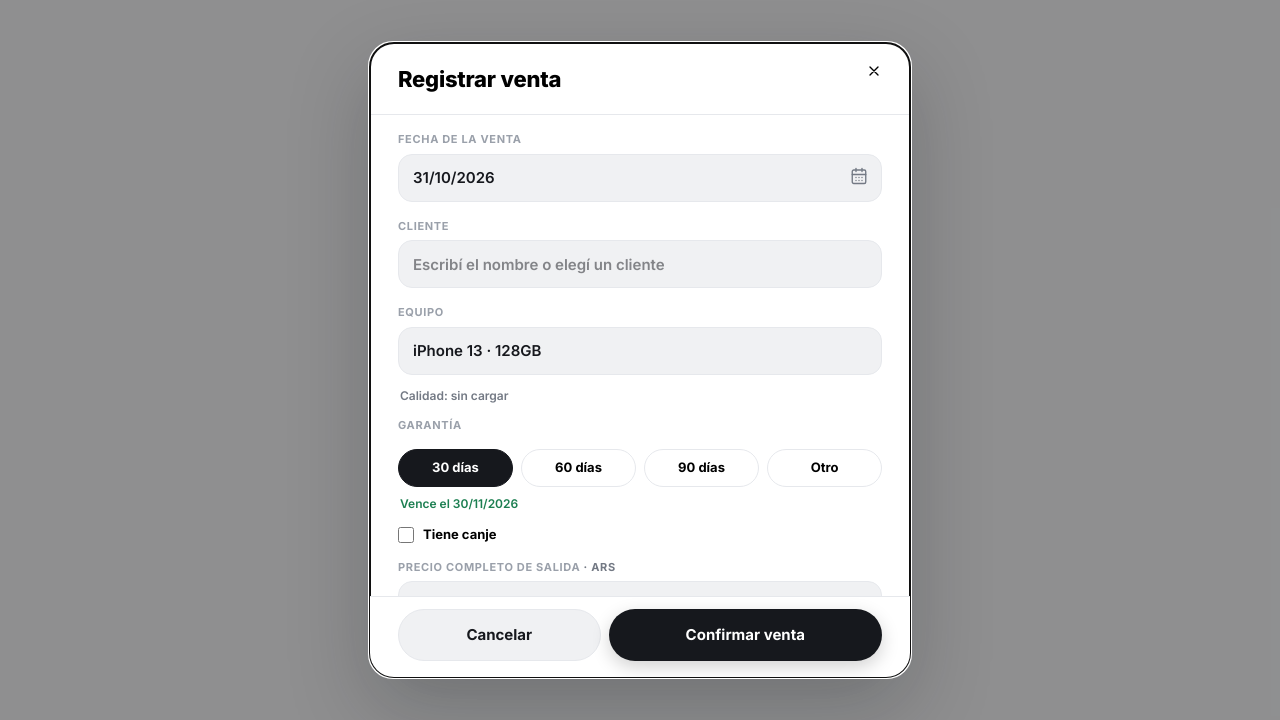
Test: warranty screens › uses 30 days for used devices, 90 for sealed, and Otro for anything else
Expected: the text with test id "sale-warranty-until" shows "Vence el", [400,496,518,511]
Click the button "60 días": click(578, 468) [521,449,636,487]
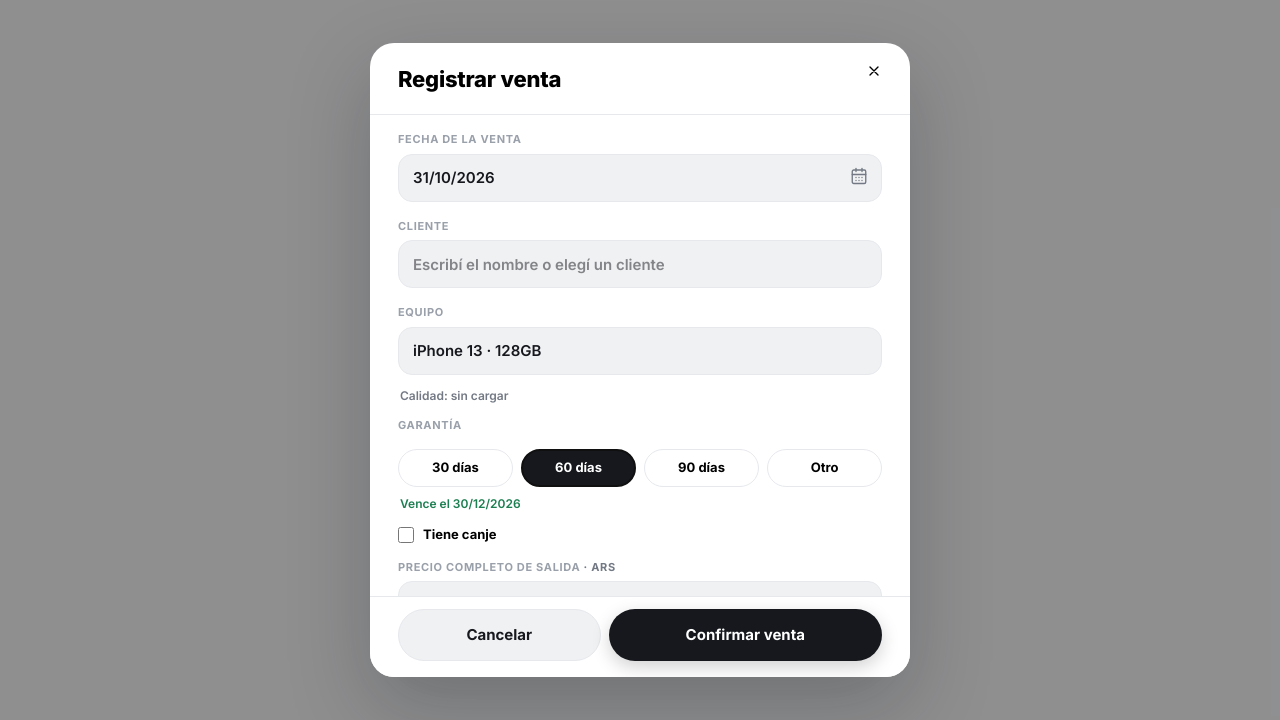
Expected: the button "60 días" is pressed, [521,449,636,487]
Click the button "Otro": click(824, 468) [767,449,882,487]
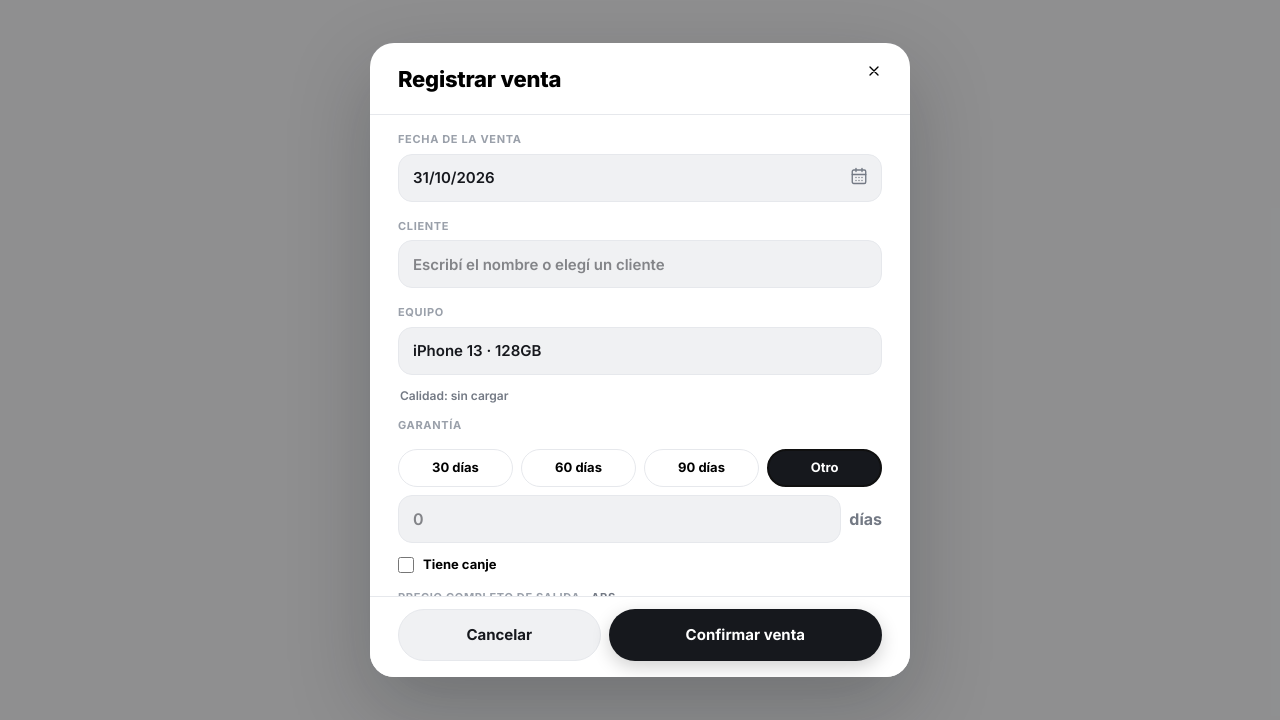
Expected: the field with test id "sale-warranty-days" is empty
In the field with test id "sale-warranty-days": (620, 519) [398,495,841,543], type "45"
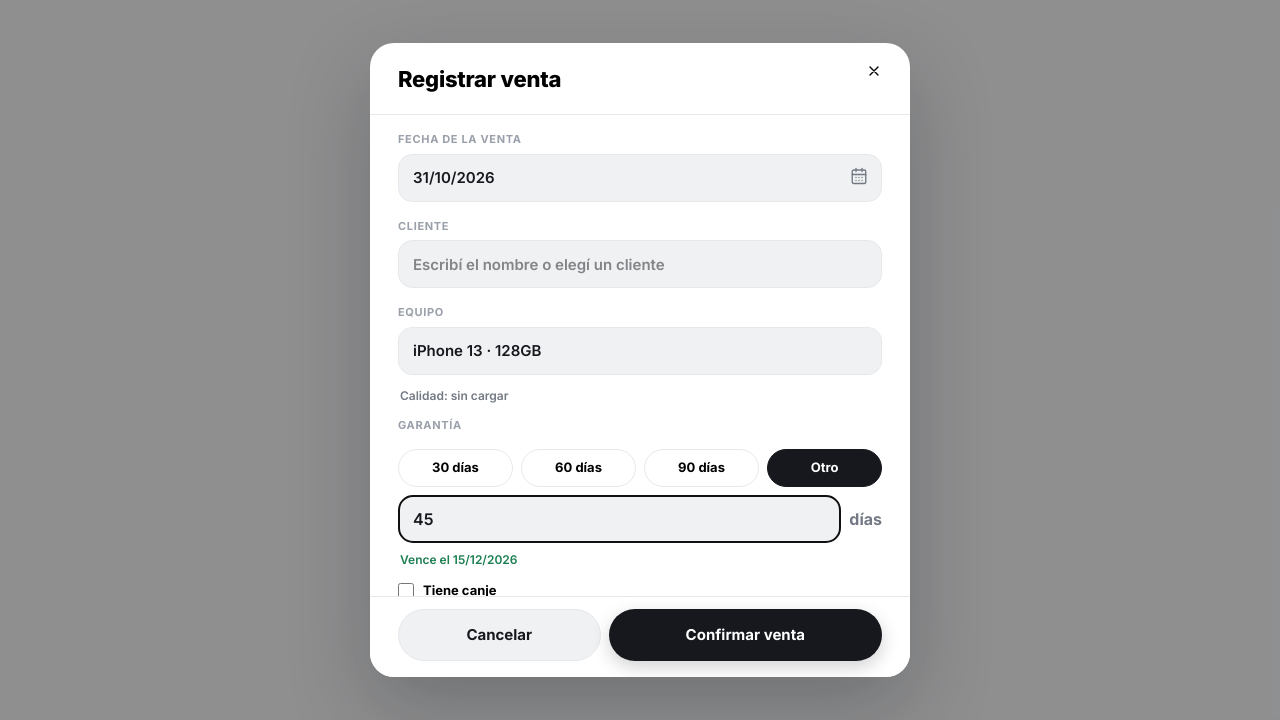
Expected: the text with test id "sale-warranty-until" reads "Vence el 15/12/2026", [400,552,518,567]
